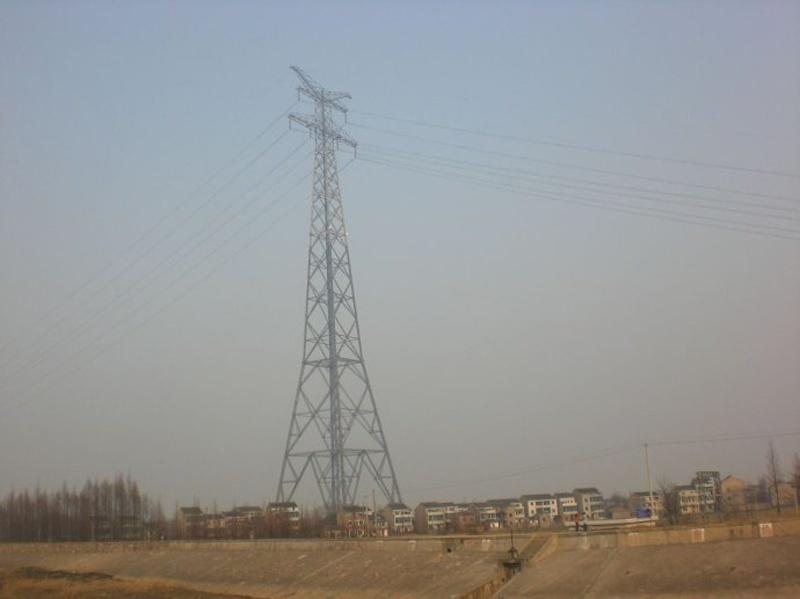power_tower: (262, 58, 412, 536)
